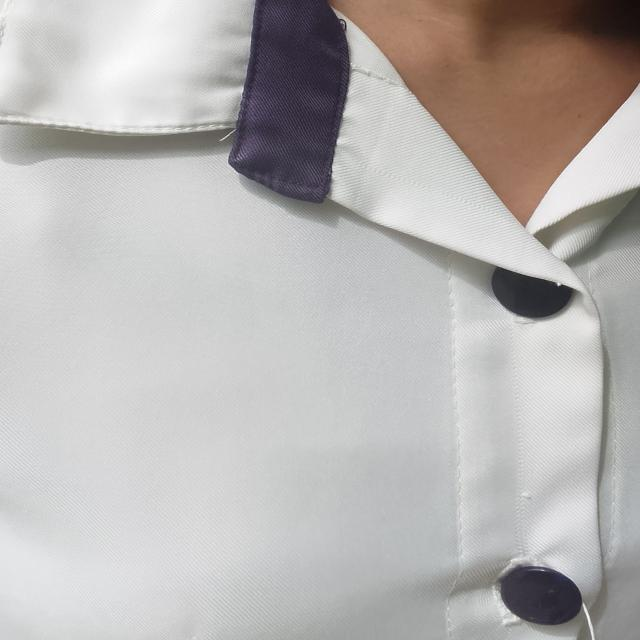education_female_uniform: (12, 12, 640, 634)
